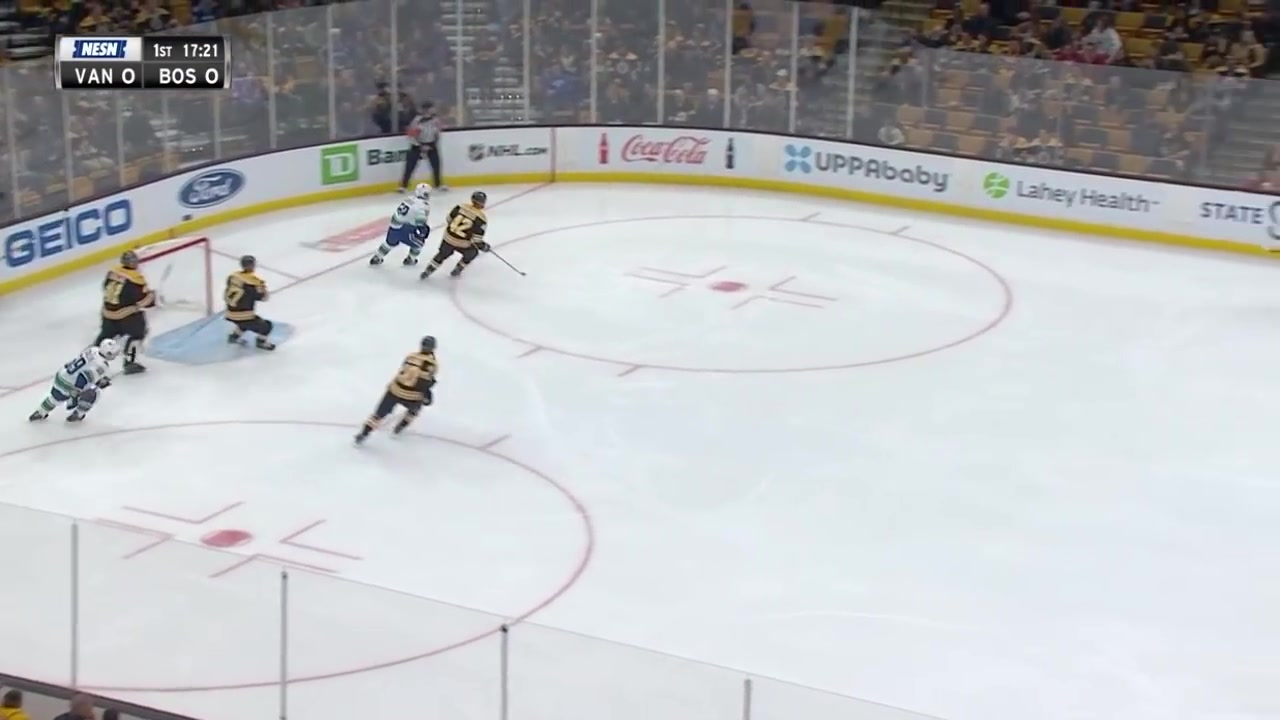Geico: (4, 191, 148, 271)
